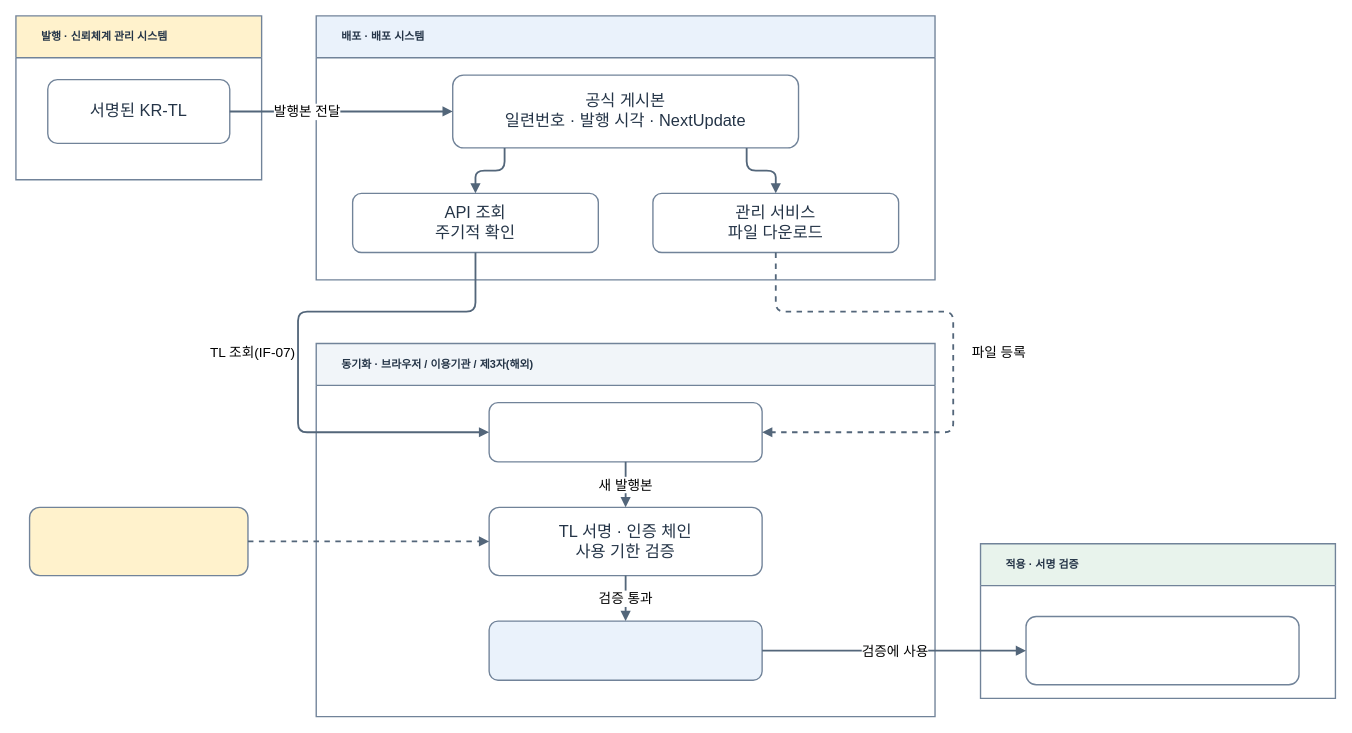
This 1352x733 diagram has some shape labels left out. The shapes that lost their labels are listed below. From the top down, each one's centre as x and y in pixels, then its label:
At [625,432]: "일련번호 비교".
At [138,541]: "KISA TL RootCA (신뢰앵커)".
At [625,650]: "보유본 갱신".
At [1162,650]: "검증 결과 사용한 TL 일련번호".
